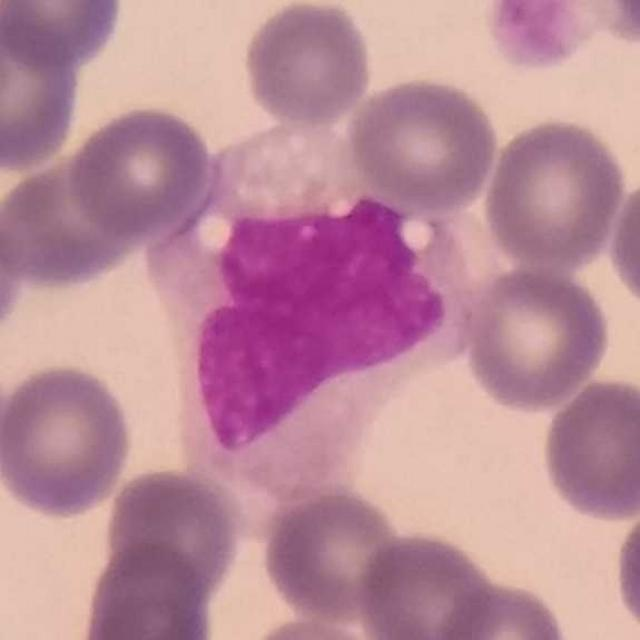mono: (142, 111, 490, 547)
